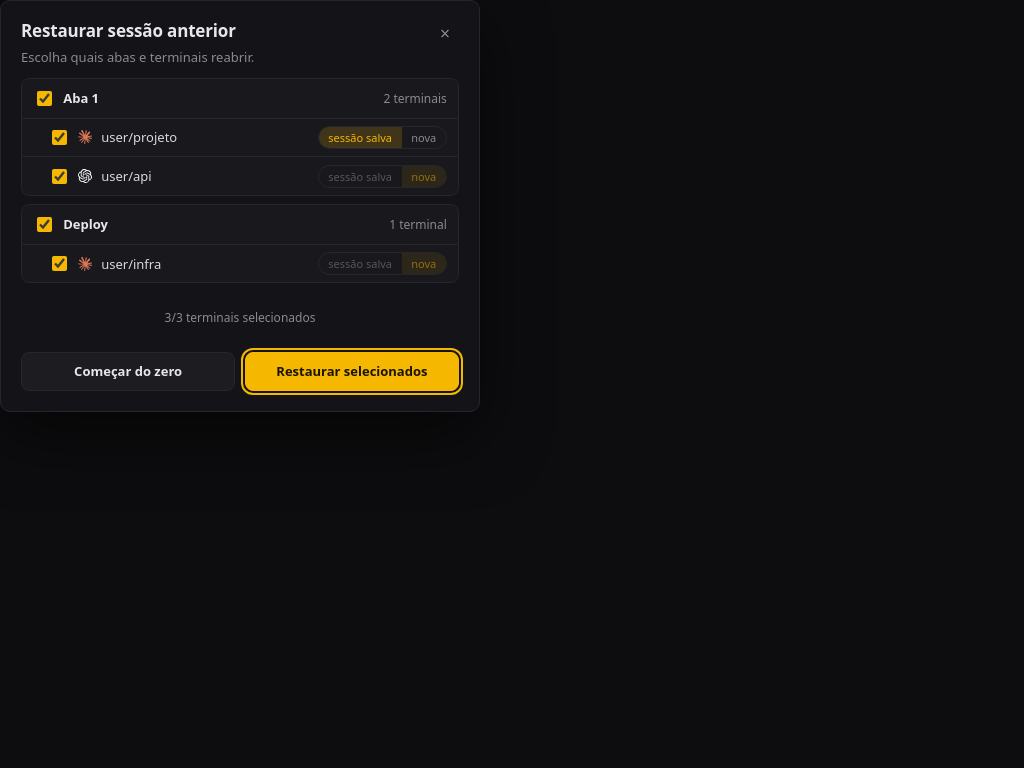
Test: RestoreSessionDialog › o contador acompanha os terminais marcados
Expected: the message reads "3/3 terminais selecionados", [165,309,316,326]
Click the checkbox named "restaurar terminal user/api".
click(59, 176)  # box [52,169,67,184]
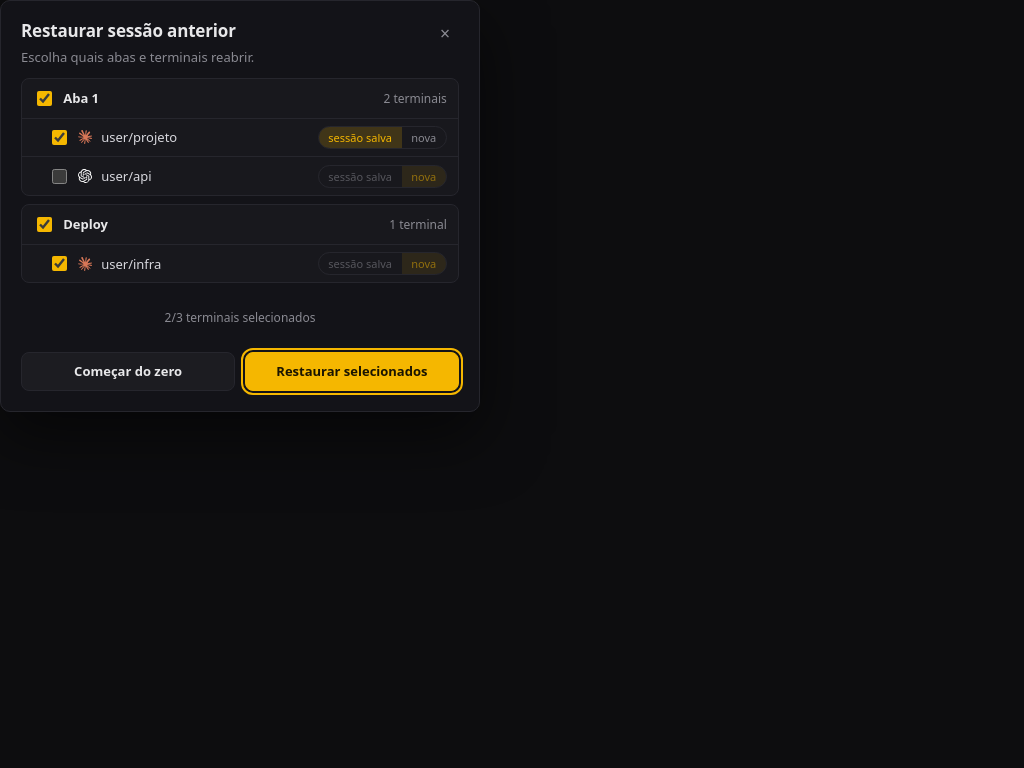
Expected: the message reads "2/3 terminais selecionados", [165,309,316,326]
